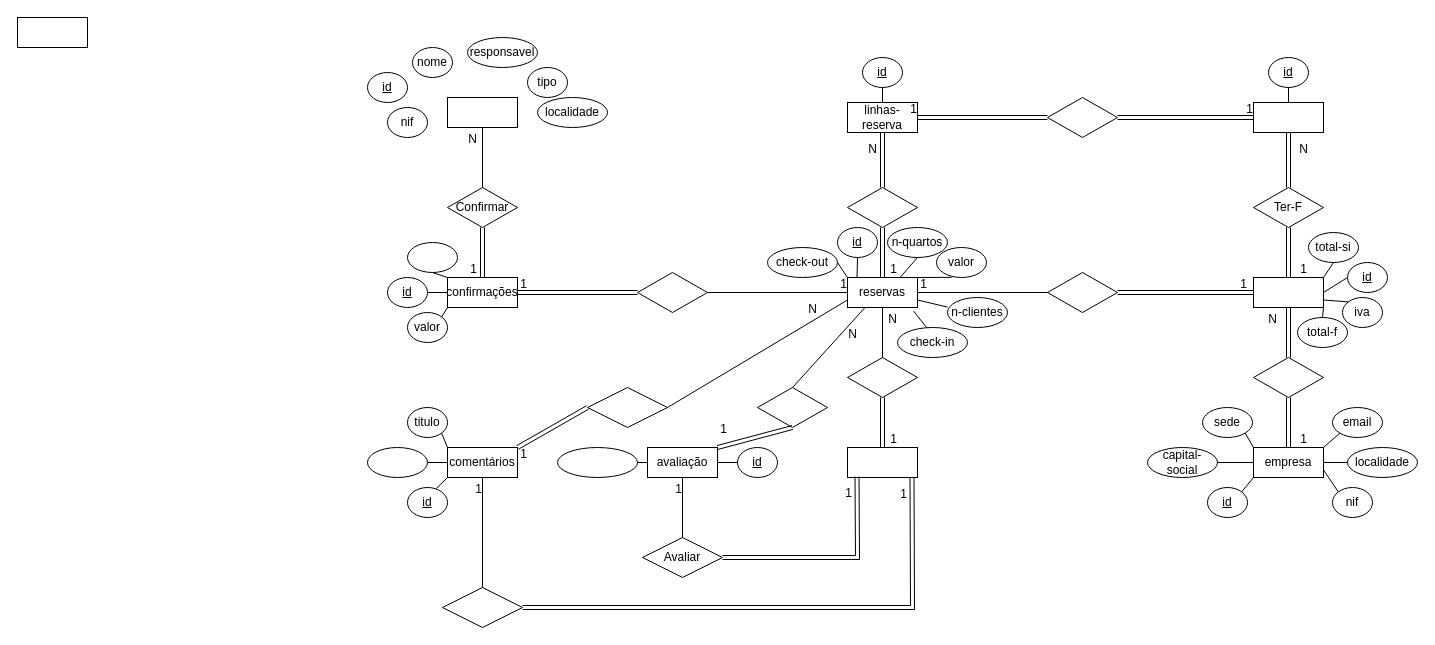
This 1435x645 diagram has some shape labels left out. The centre of each missing label's shape, as x and y in pixels:
classificacao: the point at 597,462
Comentar: the point at 482,607
descricao: the point at 397,462
estado: the point at 432,257
Faturar: the point at 1082,292
faturas: the point at 1288,292
fornecedor: the point at 482,112
linhas-fatura: the point at 1288,117
Pertencer: the point at 1288,377
profile?: the point at 52,32
Receber-A: the point at 792,407
Receber-C: the point at 672,292
Receber-Co: the point at 627,407
Registar: the point at 1082,117
Reservar: the point at 882,377
Ter-R: the point at 882,207
user: the point at 882,462
